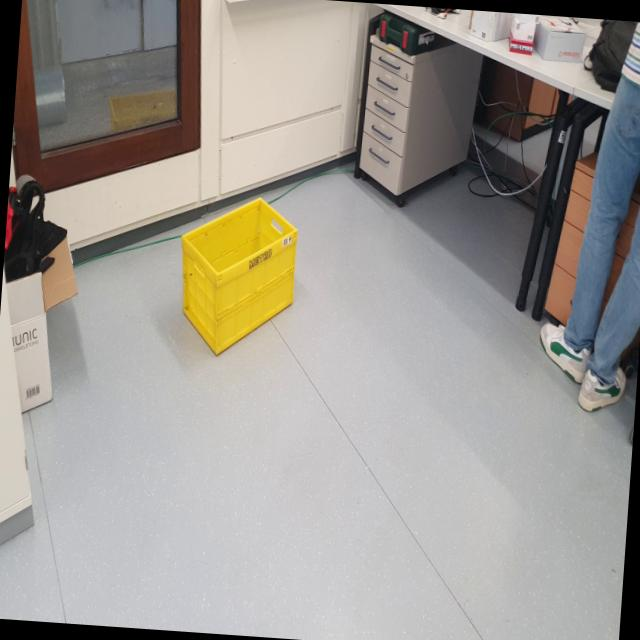box: (162, 176, 312, 361)
